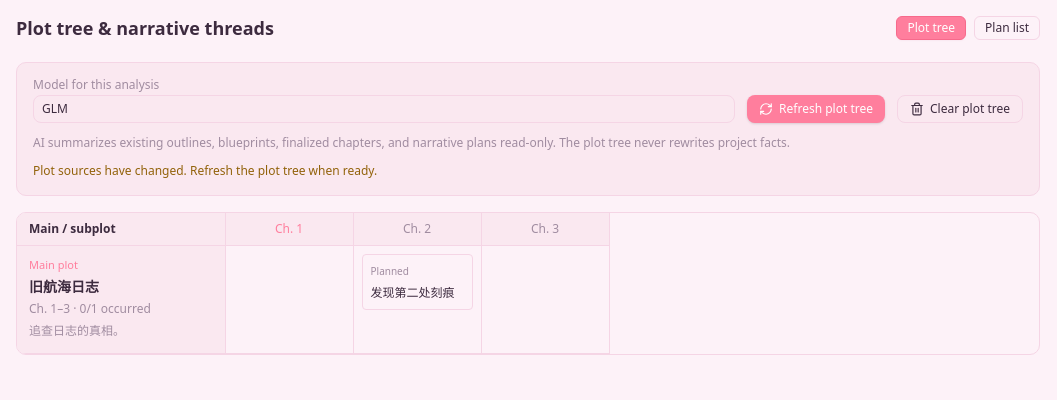
Test: NarrativeThreadEditor › localizes and logs the safe plot-tree response code without exposing model output
Click the button "Refresh plot tree" at {"x": 816, "y": 109}, box [747,95,885,123]
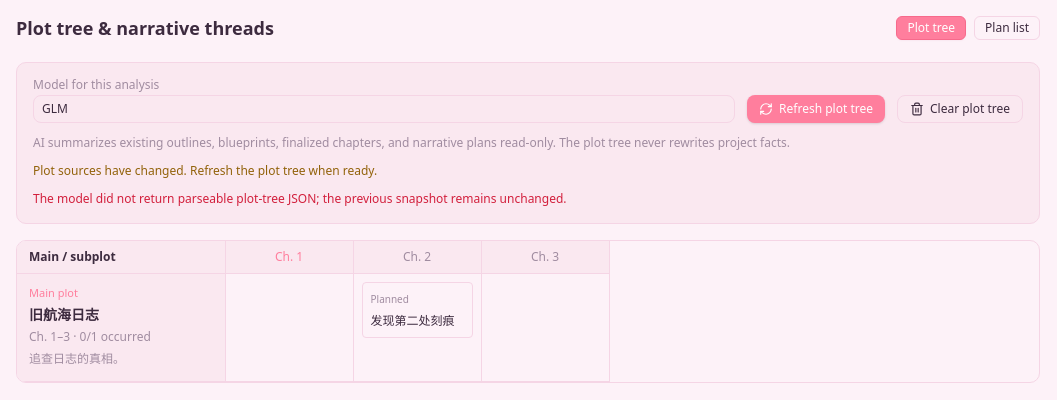
Expected: the text "The model did not return parseable plot-tree JSON; the previous snapshot remains unchanged." is shown, [33,190,566,207]
